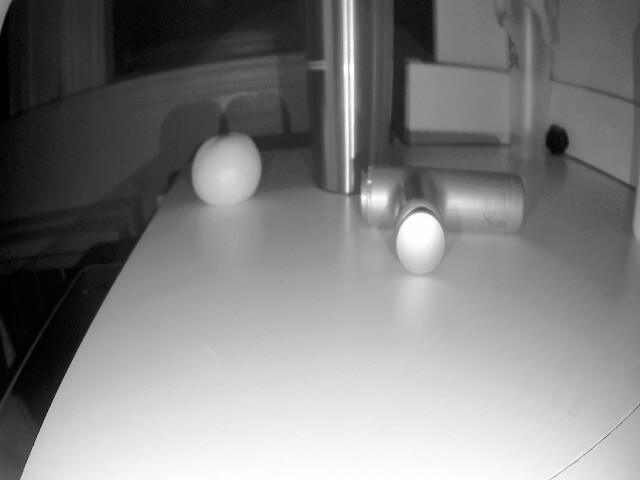black: (543, 123, 569, 155)
